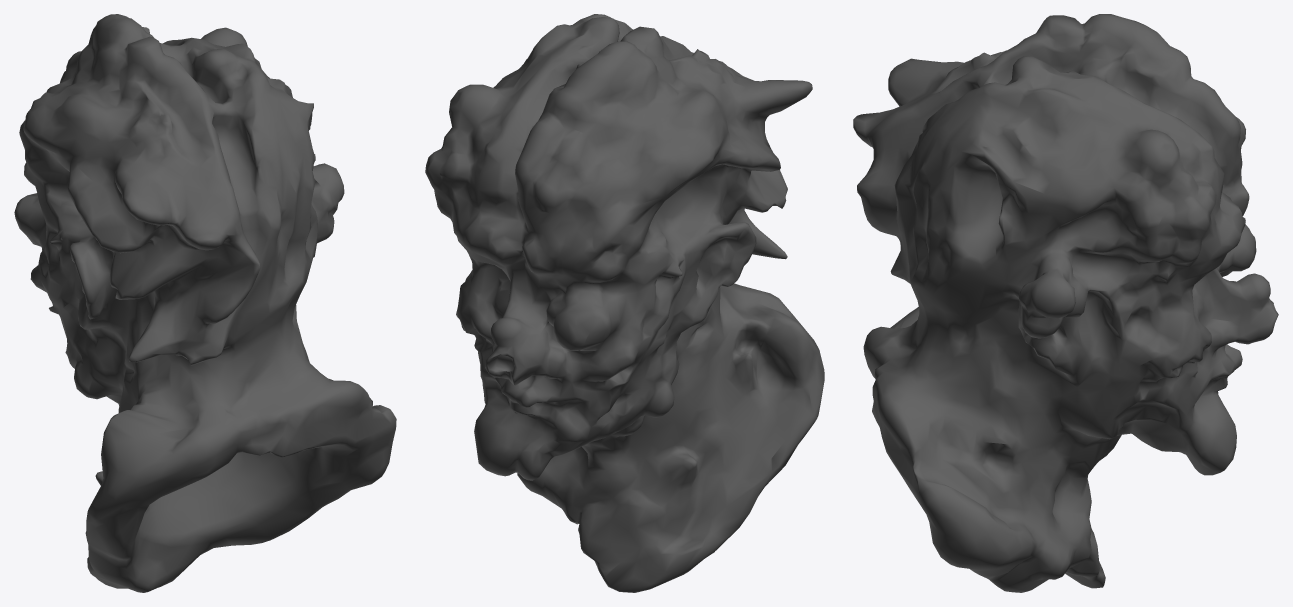
Rendered from 18_head_3.glb.
3 renders of one model, left to right at view 1: azimuth 30°, elevation 25°; view 2: azimuth 150°, elevation 25°; view 3: azimuth 270°, elevation 25°, orthographic. The views are drawn at different scales.
Parts seen in each view (by area): view 1: Sphere; view 2: Sphere; view 3: Sphere.
Part boxes in pixels (x1=…): Sphere: x1=14, y1=14, x2=396, y2=592; Sphere: x1=425, y1=14, x2=824, y2=592; Sphere: x1=853, y1=14, x2=1278, y2=592.
Bounding box in the file's own units: 7.1 × 11.96 × 8.09.
Materials: 1 (1 with a texture image).
